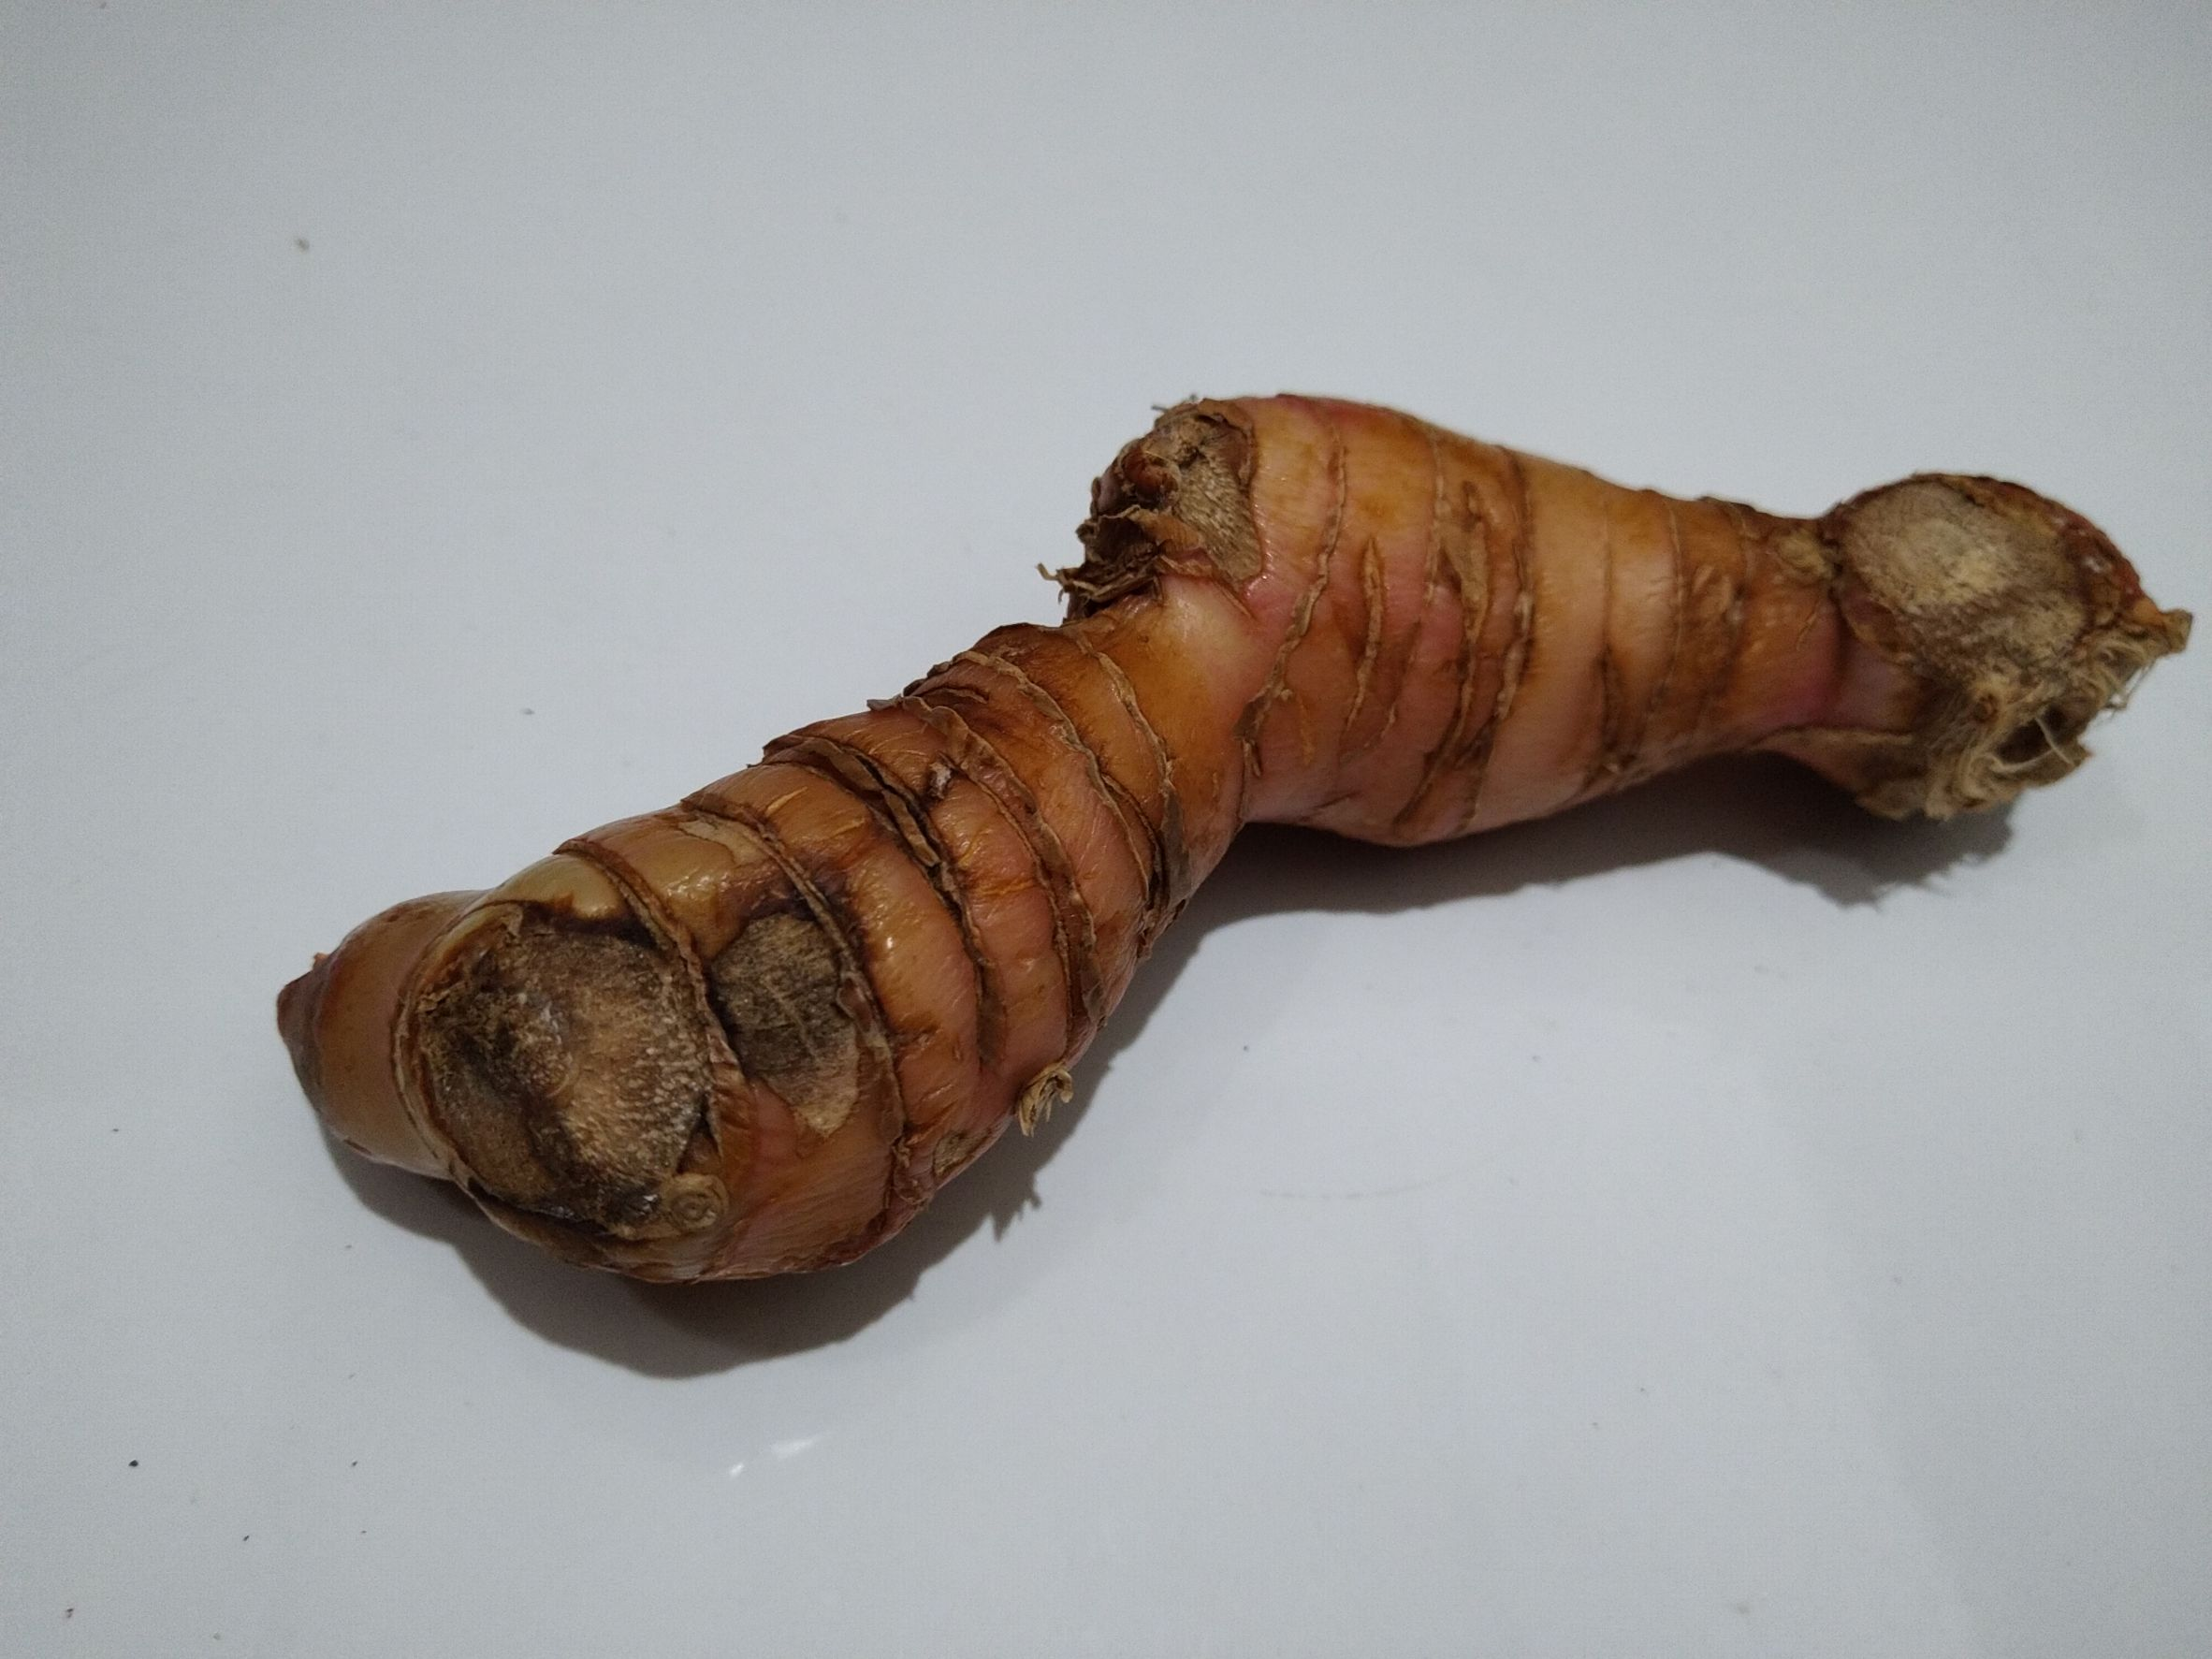Lengkuas: (275, 404, 2156, 1307)
